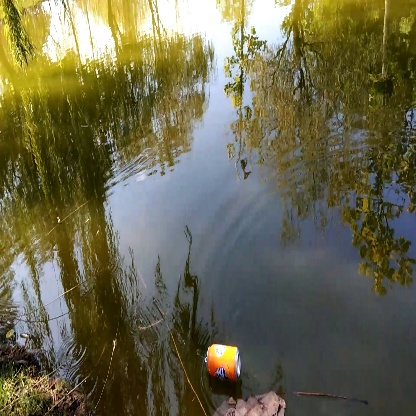bottle: (201, 338, 251, 385)
